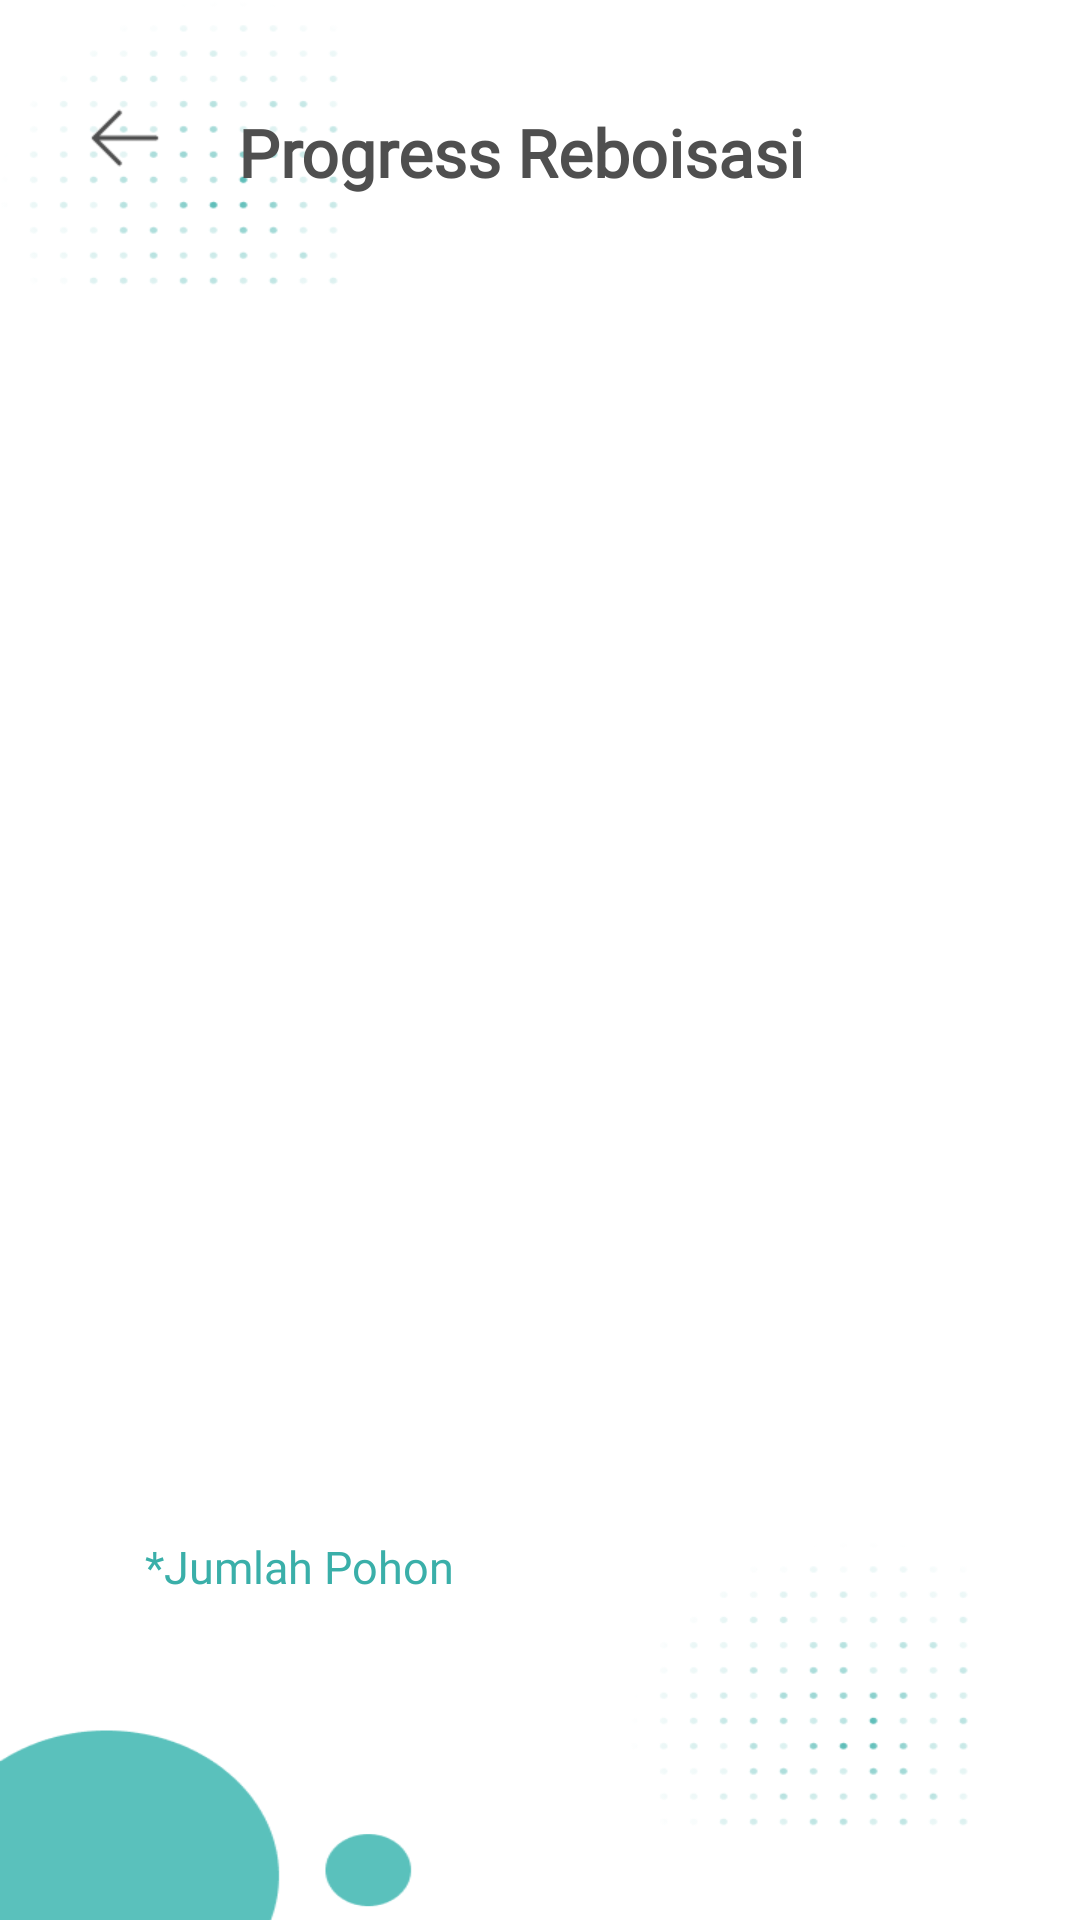

Named icons in this screenshot (1080*1920) and their bounding boxes, (x1, y1, x2, y2):
backbutton: (90, 102, 159, 183)
